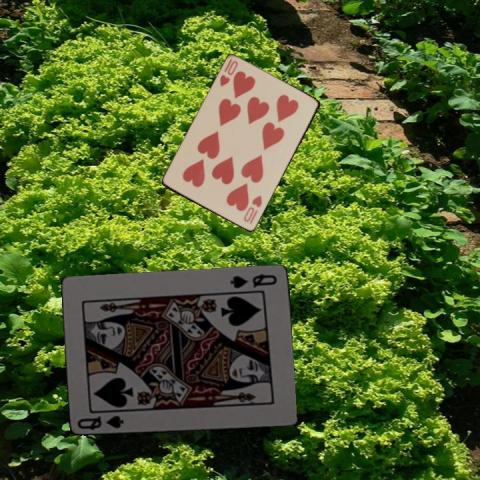10h: (241, 193, 263, 226), (217, 56, 239, 88)
Qs: (74, 413, 125, 432), (228, 271, 278, 290)
